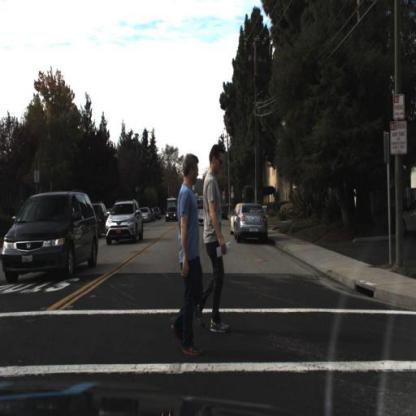car: (3, 193, 101, 284), (106, 201, 145, 241), (235, 203, 269, 245), (195, 188, 209, 235), (163, 201, 182, 227), (221, 201, 232, 224), (142, 205, 152, 225)
pedestrian: (171, 148, 209, 360), (201, 142, 231, 334)
truck: (164, 193, 178, 210)
